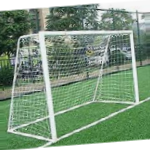goals: (7, 29, 141, 140)
